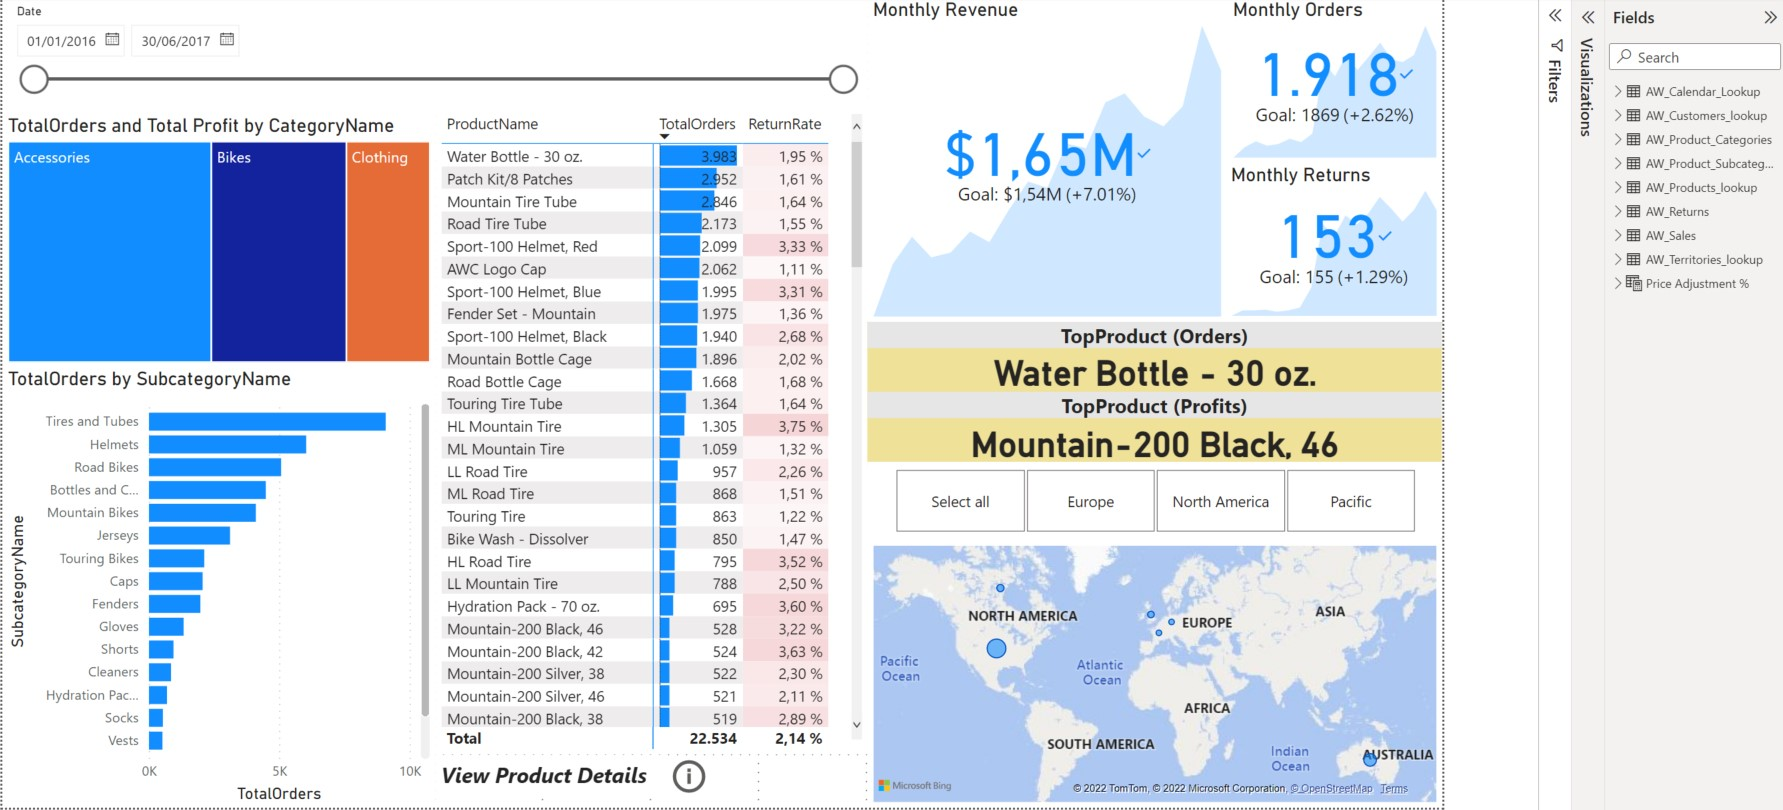

The dashboard page shown, as its layout file describes it:
{"tool":"powerbi","page":{"name":"Exec Summary","canvas":[1280,720],"ordinal":0},"visuals":[{"type":"image","box":[0,0,276.5,102.7],"z":0},{"type":"barChart","fields":{"Y":["AW_Sales.TotalOrders"],"Category":["AW_Product_Subcategories.SubcategoryName"]},"box":[0,328.3,385,391.7],"z":1000},{"type":"treemap","fields":{"Group":["AW_Product_Categories.CategoryName","AW_Product_Subcategories.SubcategoryName"],"Values":["AW_Sales.TotalOrders"]},"box":[0,102.7,385,225.6],"z":2000},{"type":"pivotTable","fields":{"Rows":["AW_Product_Categories.CategoryName","AW_Product_Subcategories.SubcategoryName","AW_Products_lookup.ProductName"],"Values":["AW_Sales.TotalOrders","AW_Returns.ReturnRate"]},"box":[385,96,384,577],"z":3000},{"type":"slicer","fields":{"Values":["AW_Calendar_Lookup.Date"]},"box":[276.5,0,492.5,102.7],"z":4000},{"type":"kpi","title":"Monthly Revenue","fields":{"Indicator":["AW_Sales.TotalRevenue"],"Goal":["AW_Sales.Prev MonthRevenue"],"TrendLine":["AW_Calendar_Lookup.Start of Month"]},"box":[769,0,319.7,288],"z":5000},{"type":"kpi","title":"Monthly Returns","fields":{"TrendLine":["AW_Calendar_Lookup.Start of Month"],"Indicator":["AW_Returns.TotalReturns(rows)"],"Goal":["AW_Returns.Prev MonthReturns"]},"box":[1086.7,146.9,193,141.1],"z":6000},{"type":"kpi","title":"Monthly Orders","fields":{"Goal":["AW_Sales.Prev MonthOrders"],"TrendLine":["AW_Calendar_Lookup.Start of Month"],"Indicator":["AW_Sales.TotalOrders"]},"box":[1088.6,0,191,146.9],"z":7000},{"type":"card","title":"TopProduct (Orders)","fields":{"Values":["Min(AW_Products_lookup.ProductName)"]},"box":[769,288,510.7,62.4],"z":8000},{"type":"card","title":"TopProduct (Profits)","fields":{"Values":["Min(AW_Products_lookup.ProductName)"]},"box":[769,350.4,510.7,65.3],"z":9000},{"type":"slicer","fields":{"Values":["AW_Territories_lookup.Continent"]},"box":[769,412.8,510.7,69.1],"z":10000},{"type":"map","fields":{"Category":["AW_Territories_lookup.Country"],"Size":["AW_Sales.TotalOrders"]},"box":[769,481.9,510.7,238.1],"z":11000},{"type":"textbox","box":[385,673,206.4,38.4],"z":12000},{"type":"actionButton","box":[591.4,673,72,38.4],"z":13000}]}

Visuals, with their boxes on the page's 1280x720 design canvas (x1, y1, x2, y2). These are canvas units, not pixel positions in the 1783x810 screenshot, which may show the page scaled, cropped or inside an application window:
image: [left=0, top=0, right=276, bottom=103]
barChart - AW_Sales.TotalOrders x AW_Product_Subcategories.SubcategoryName: [left=0, top=328, right=385, bottom=720]
treemap - AW_Product_Categories.CategoryName x AW_Product_Subcategories.SubcategoryName: [left=0, top=103, right=385, bottom=328]
pivotTable - AW_Product_Categories.CategoryName x AW_Product_Subcategories.SubcategoryName: [left=385, top=96, right=769, bottom=673]
slicer - AW_Calendar_Lookup.Date: [left=276, top=0, right=769, bottom=103]
"Monthly Revenue" kpi: [left=769, top=0, right=1089, bottom=288]
"Monthly Returns" kpi: [left=1087, top=147, right=1280, bottom=288]
"Monthly Orders" kpi: [left=1089, top=0, right=1280, bottom=147]
"TopProduct (Orders)" card: [left=769, top=288, right=1280, bottom=350]
"TopProduct (Profits)" card: [left=769, top=350, right=1280, bottom=416]
slicer - AW_Territories_lookup.Continent: [left=769, top=413, right=1280, bottom=482]
map - AW_Territories_lookup.Country x AW_Sales.TotalOrders: [left=769, top=482, right=1280, bottom=720]
textbox: [left=385, top=673, right=591, bottom=711]
actionButton: [left=591, top=673, right=663, bottom=711]
